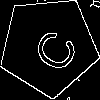C: (23, 21, 81, 76)
